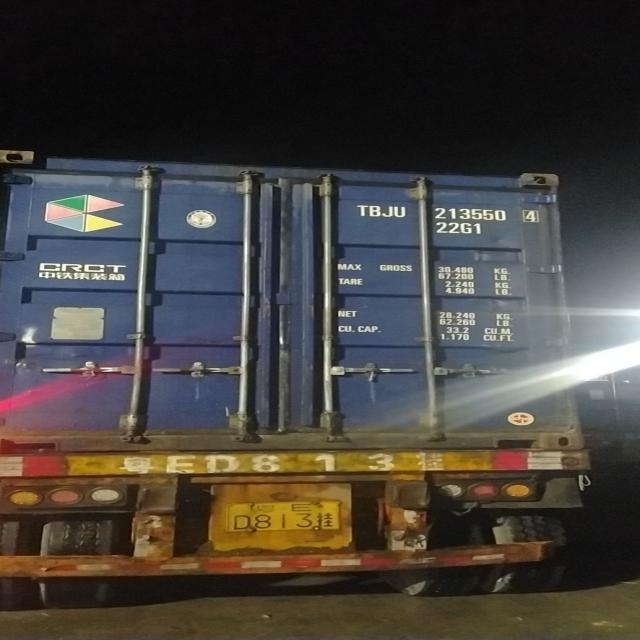ISO: (443, 222, 483, 238)
container_number: (358, 198, 544, 226)
